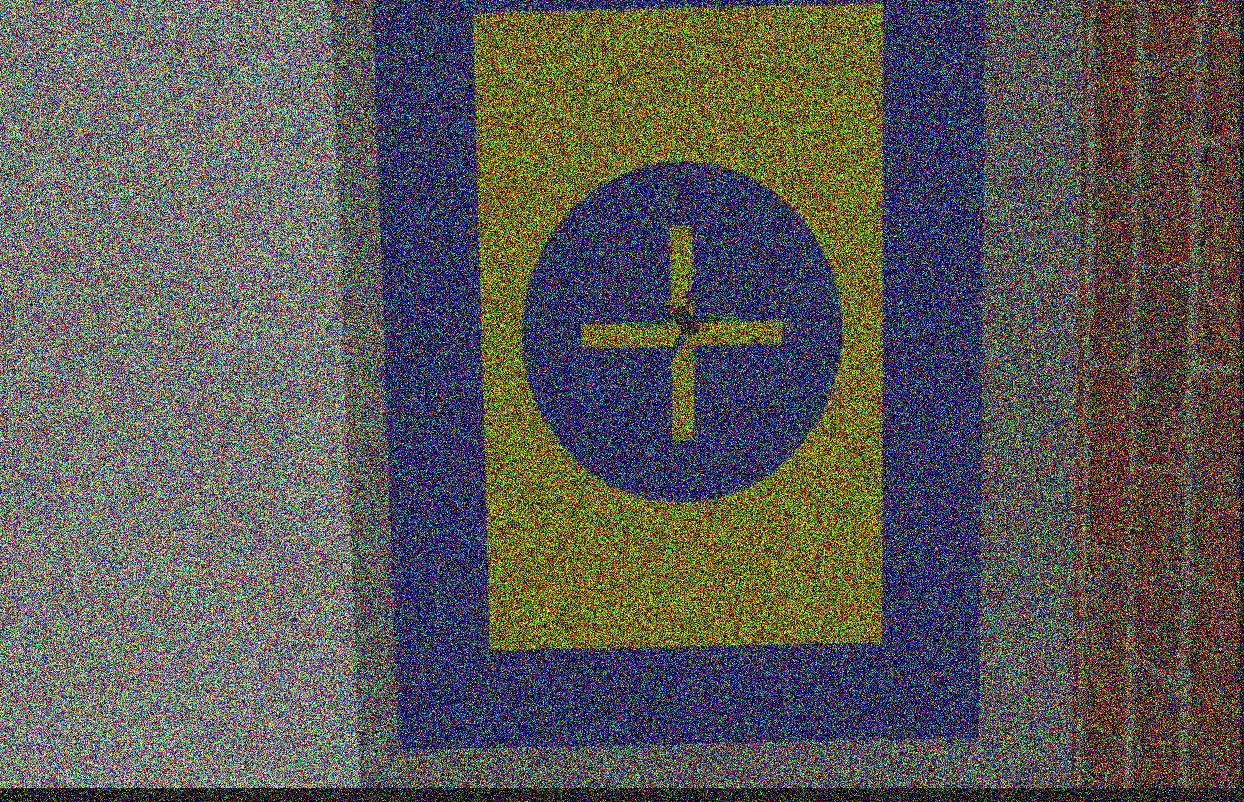large_base: (372, 1, 986, 752)
